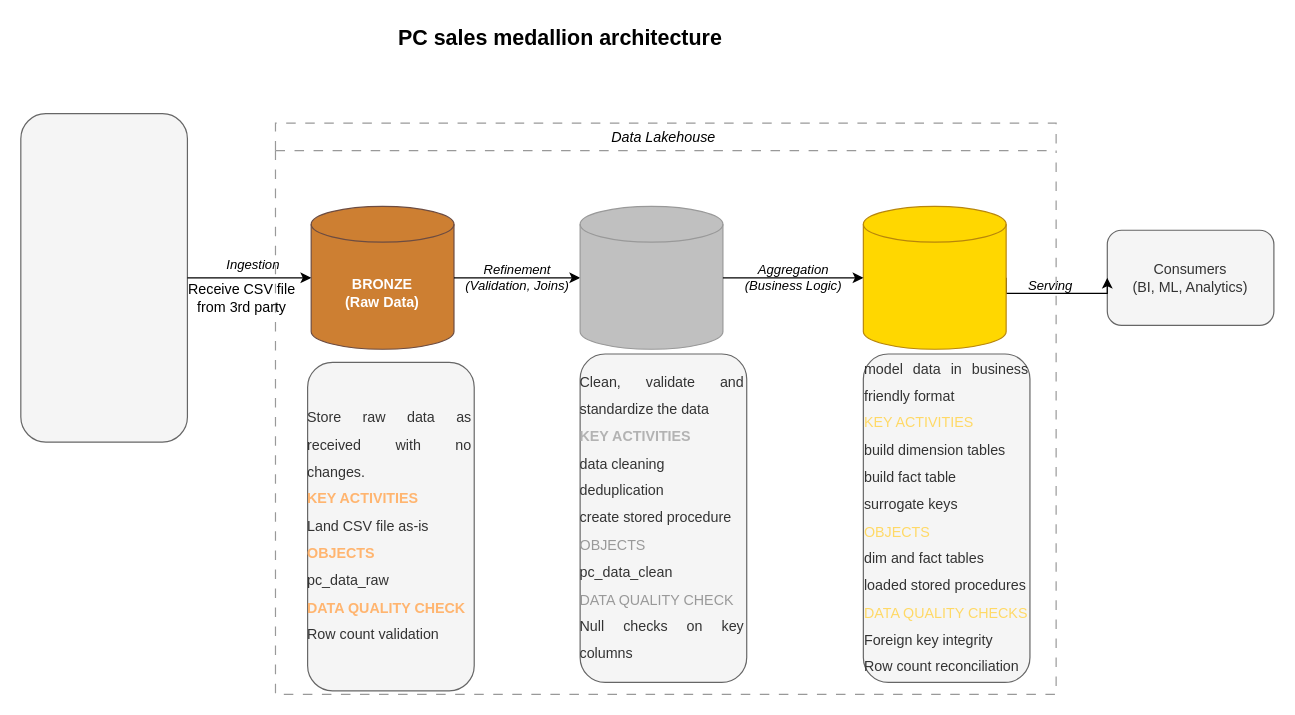
Image size: 1295x715. Some labels were removed from this diagram. The shapes that lost their labels are listed below. From the top down, each one's centre as x and y in pixels, then its label:
At point (103, 277): "Data Sources (ERP, CRM, Logs, APIs)".
At point (651, 277): "SILVER (Cleaned & Filtered)".
At point (934, 277): "GOLD (Business Ready)".
